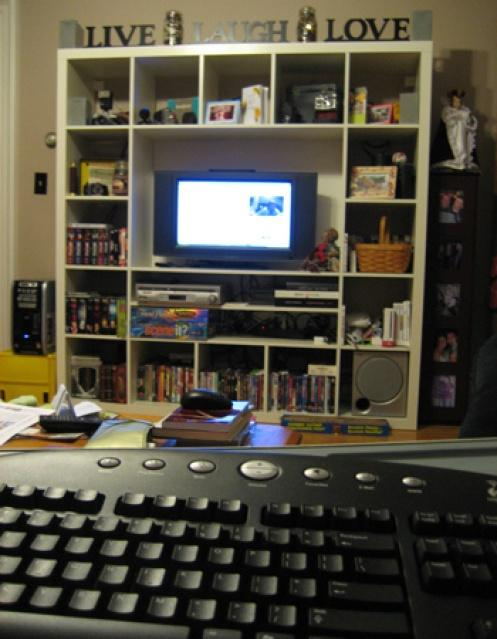AIO PC-Monitor-TV: (153, 169, 317, 262)
Rak: (56, 40, 431, 431)
